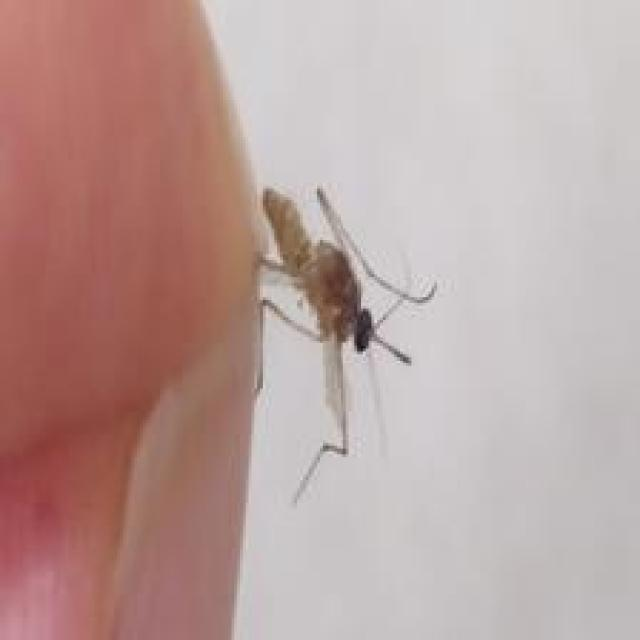Culex: (252, 182, 437, 504)
